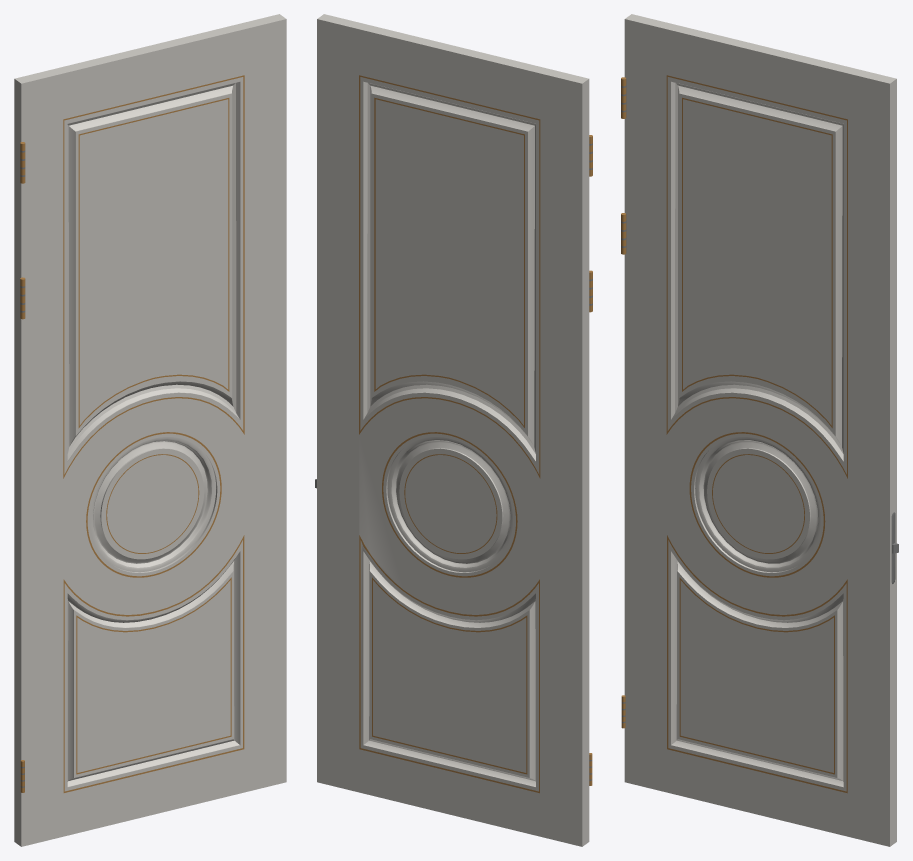
Rendered from 14_ELEGANT_DOOR.glb.
The picture shows the model from 3 angles, left to right: view 1: azimuth 30°, elevation 25°; view 2: azimuth 150°, elevation 25°; view 3: azimuth 330°, elevation 25°; orthographic projection.
Visible parts, largest first — view 1: 14_ELEGANT_DOOR; view 2: 14_ELEGANT_DOOR; view 3: 14_ELEGANT_DOOR.
Boxes of the visible parts, x1,y1,x2,y2 form: 14_ELEGANT_DOOR: [14, 14, 286, 846]; 14_ELEGANT_DOOR: [315, 14, 592, 846]; 14_ELEGANT_DOOR: [621, 14, 898, 846].
Size of the model in its own units: 0.8187 by 2.2 by 0.053.
